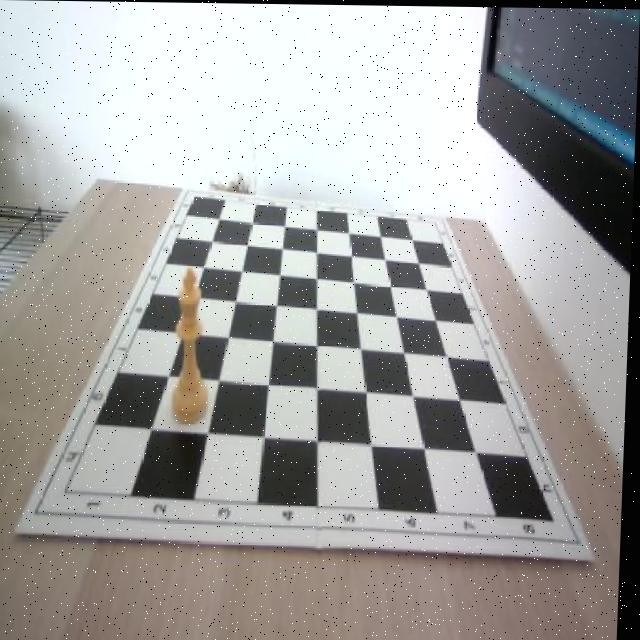white-bishop: (172, 264, 217, 423)
